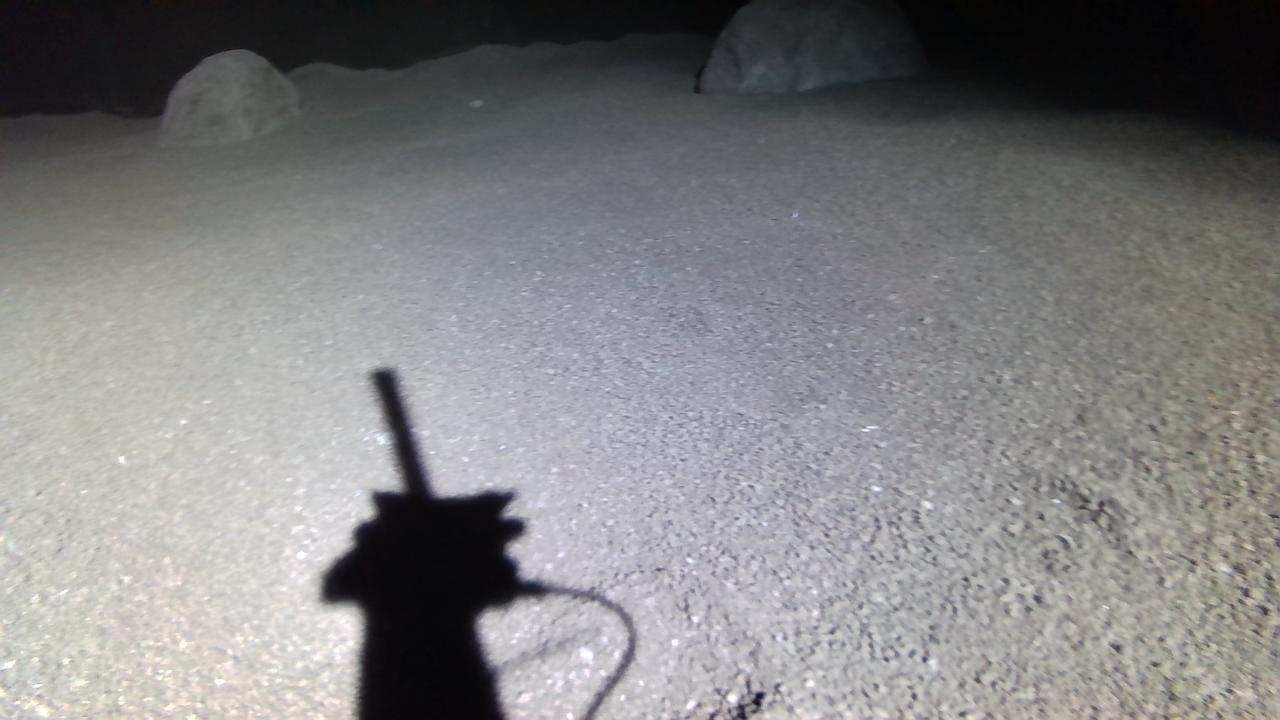rock: (698, 0, 927, 92), (158, 48, 297, 145)
